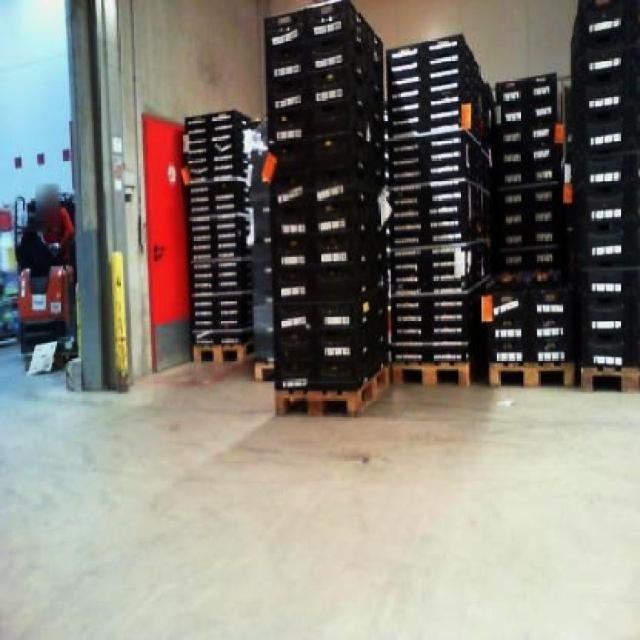floor: (0, 345, 637, 637)
pallets: (258, 0, 572, 411), (263, 0, 385, 411), (386, 34, 491, 377), (480, 72, 572, 383), (566, 0, 637, 388), (182, 109, 252, 358), (583, 0, 620, 37)
